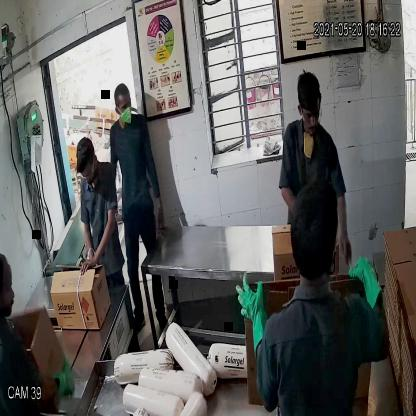goggles: (293, 101, 328, 130)
